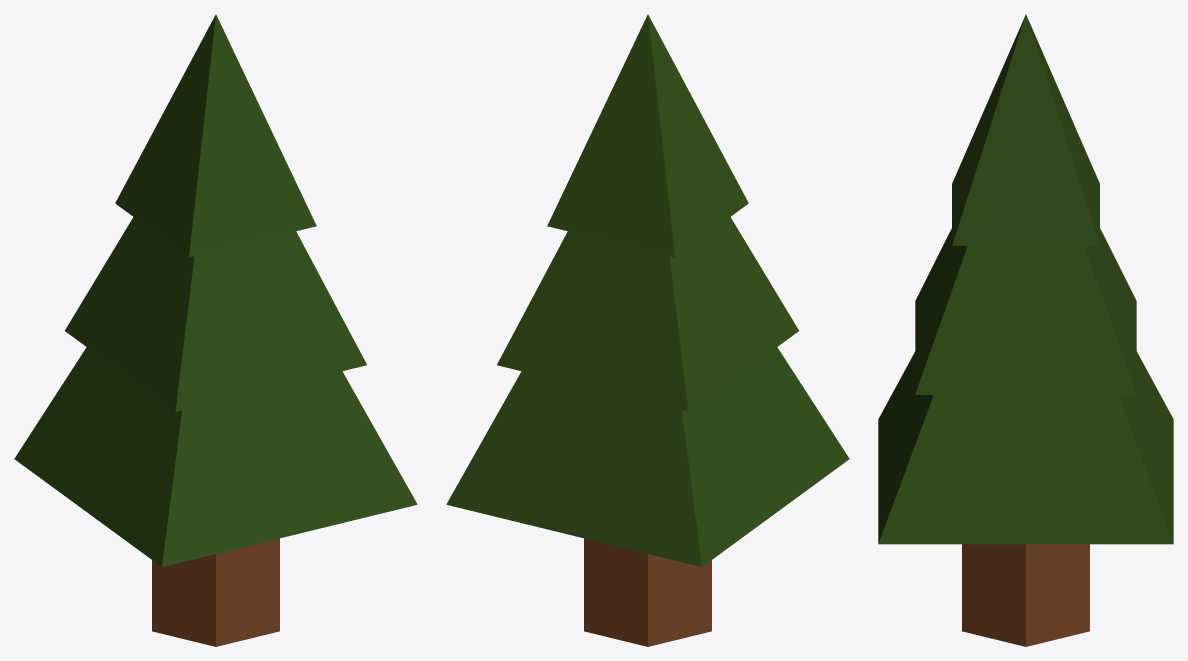
Rendered from tree.fbx.
3 renders of one model, left to right at view 1: azimuth 30°, elevation 25°; view 2: azimuth 150°, elevation 25°; view 3: azimuth 270°, elevation 25°, orthographic.
Parts seen in each view (by area): view 1: Pyramid, Pyramid_1, Pyramid_2, Cylinder; view 2: Pyramid, Pyramid_1, Pyramid_2, Cylinder; view 3: Pyramid, Pyramid_1, Pyramid_2, Cylinder.
Part boxes in pixels (x1,y1,x2,y2): Pyramid: (14, 347, 417, 566); Pyramid_1: (65, 217, 366, 411); Pyramid_2: (115, 14, 316, 257); Cylinder: (152, 538, 279, 646); Pyramid: (446, 347, 849, 566); Pyramid_1: (497, 217, 798, 411); Pyramid_2: (547, 14, 748, 257); Cylinder: (584, 538, 711, 646); Pyramid: (878, 351, 1173, 544); Pyramid_1: (915, 228, 1136, 394); Pyramid_2: (952, 14, 1099, 245); Cylinder: (962, 544, 1089, 646).
Bounding box in the file's own units: 40 × 89.89 × 40.
